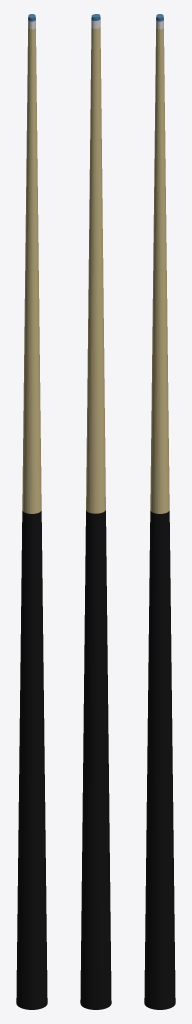
File: Taco.glb
The picture shows the model from 3 angles, left to right: view 1: azimuth 90°, elevation 25°; view 2: azimuth 210°, elevation 25°; view 3: azimuth 270°, elevation 25°; orthographic projection.
Visible parts, largest first — view 1: Cylinder; view 2: Cylinder; view 3: Cylinder.
Part boxes in pixels (x1,y1,x2,y2): Cylinder: (16, 14, 47, 1009); Cylinder: (80, 14, 111, 1009); Cylinder: (144, 14, 175, 1009).
Bounding box in the file's own units: 0.04 × 1.4 × 0.04.
